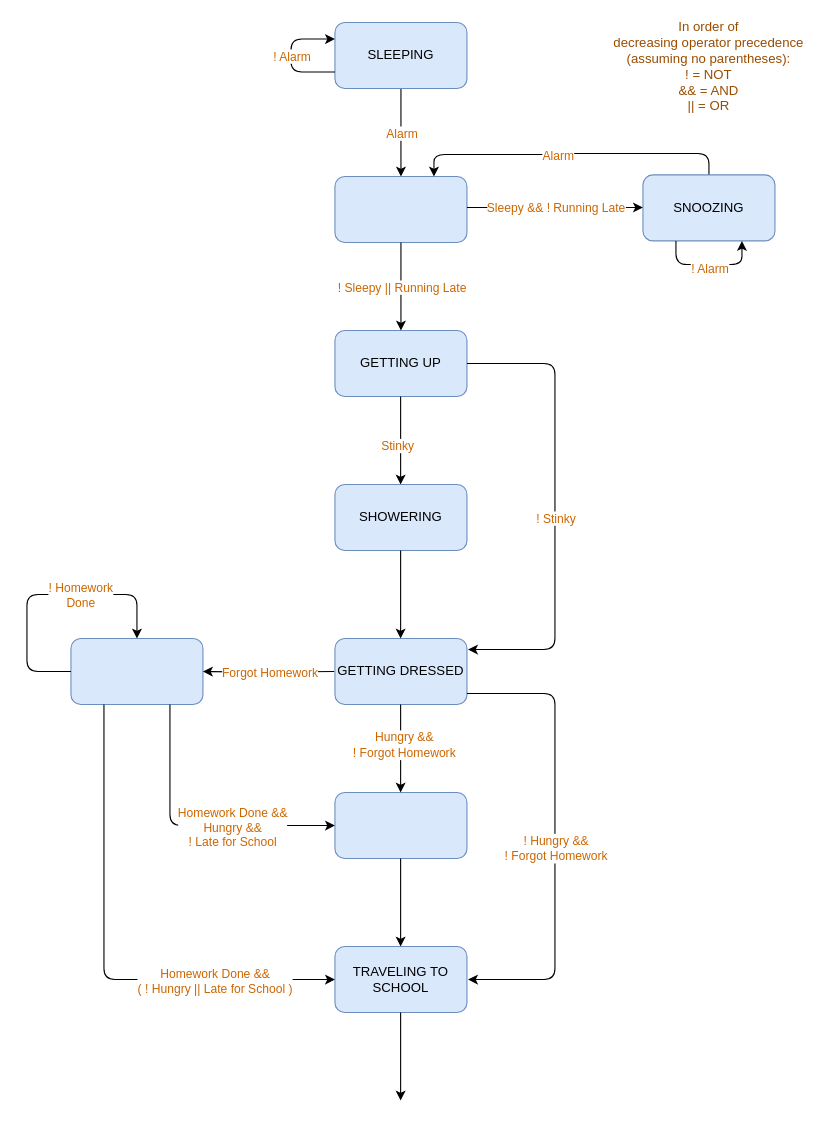
Image size: 827x1129. Some labels were removed from this diagram. The centre of each missing label's shape, as x and y in pixels:
AWAKE IN BED: pixel 400 209
DOING HOMEWORK IN A PANIC: pixel 136 671
EATING BREAKFAST: pixel 400 825
